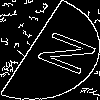N: (24, 25, 99, 77)
